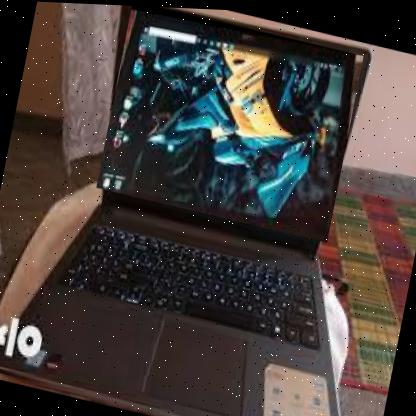Normal: (94, 3, 363, 242)
